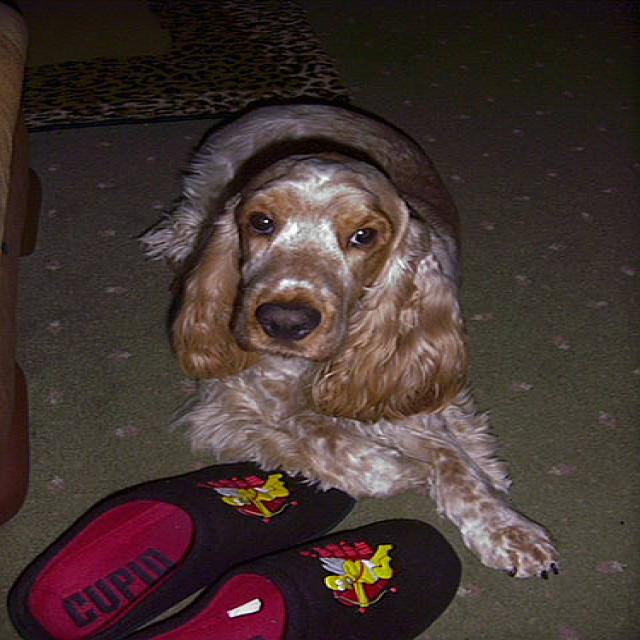dog-english_cocker_spaniel: (143, 88, 570, 589)
